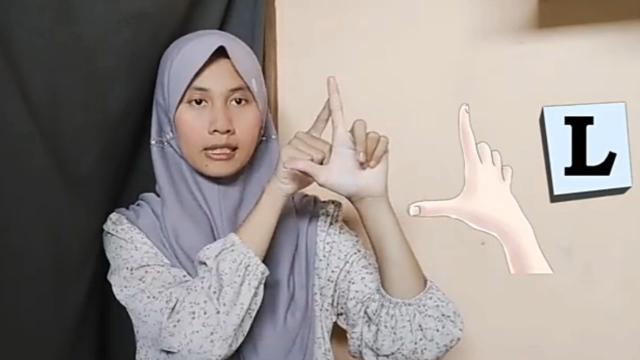L: (280, 74, 400, 202)
